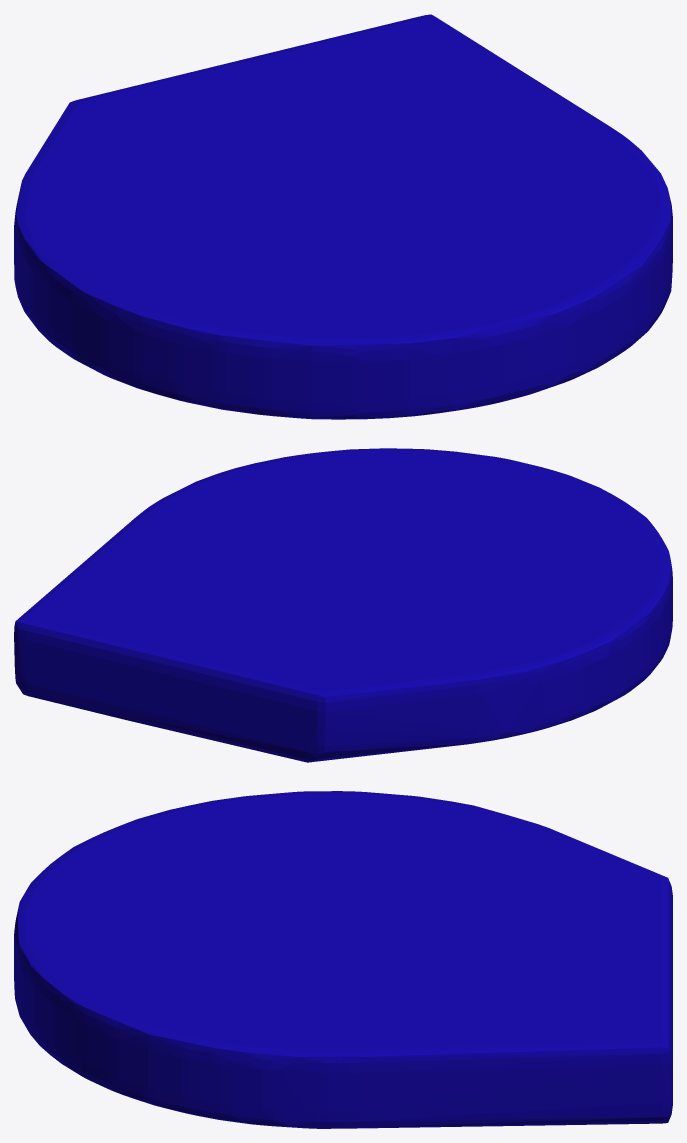
The model's file is left_hip_pitch_link_part_5.obj.
The picture shows the model from 3 angles, top to bottom: view 1: azimuth 30°, elevation 25°; view 2: azimuth 150°, elevation 25°; view 3: azimuth 270°, elevation 25°; orthographic projection. The views are drawn at different scales.
Size of the model in its own units: 0.1241 by 0.0179 by 0.129.
